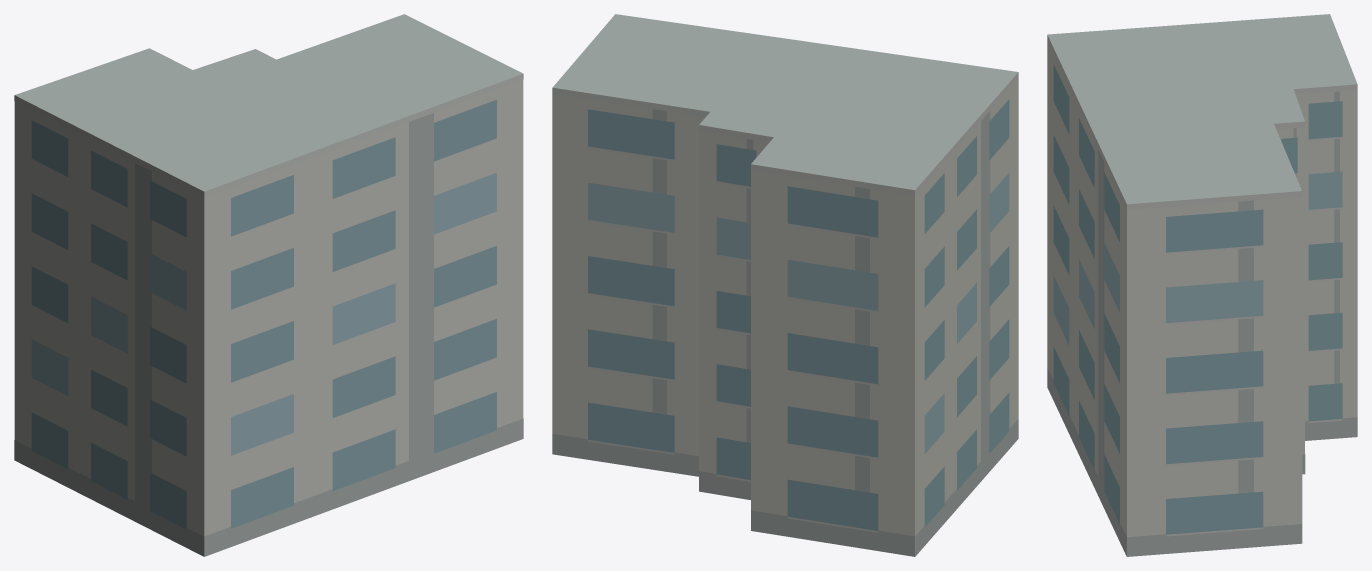
Rendered from survey-upis-32884553.glb.
3 views of the same model, side by side, from view 1: azimuth 30°, elevation 25°; view 2: azimuth 150°, elevation 25°; view 3: azimuth 270°, elevation 25° (orthographic). The views are drawn at different scales.
Visible parts, largest first — view 1: survey-upis-32884553.tmp; view 2: survey-upis-32884553.tmp; view 3: survey-upis-32884553.tmp.
Part boxes in pixels (x1,y1,x2,y2): survey-upis-32884553.tmp: [14, 14, 523, 556]; survey-upis-32884553.tmp: [552, 14, 1018, 556]; survey-upis-32884553.tmp: [1047, 14, 1357, 556].
Bounding box in the file's own units: 16.85 × 14.55 × 11.62.
